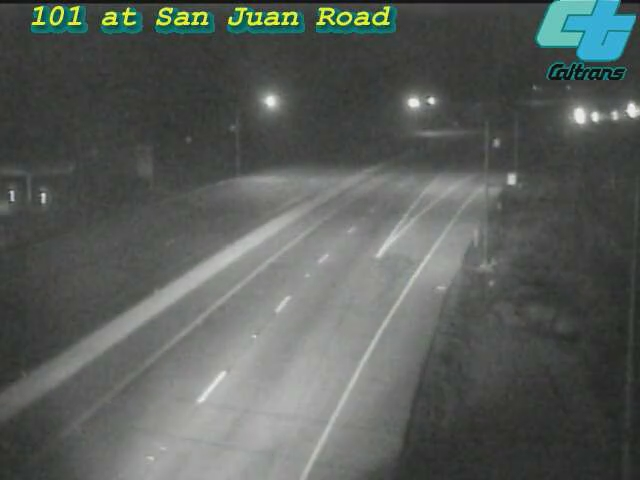vehicle: (588, 90, 638, 140), (571, 94, 621, 144), (553, 90, 603, 140), (607, 86, 640, 136)
